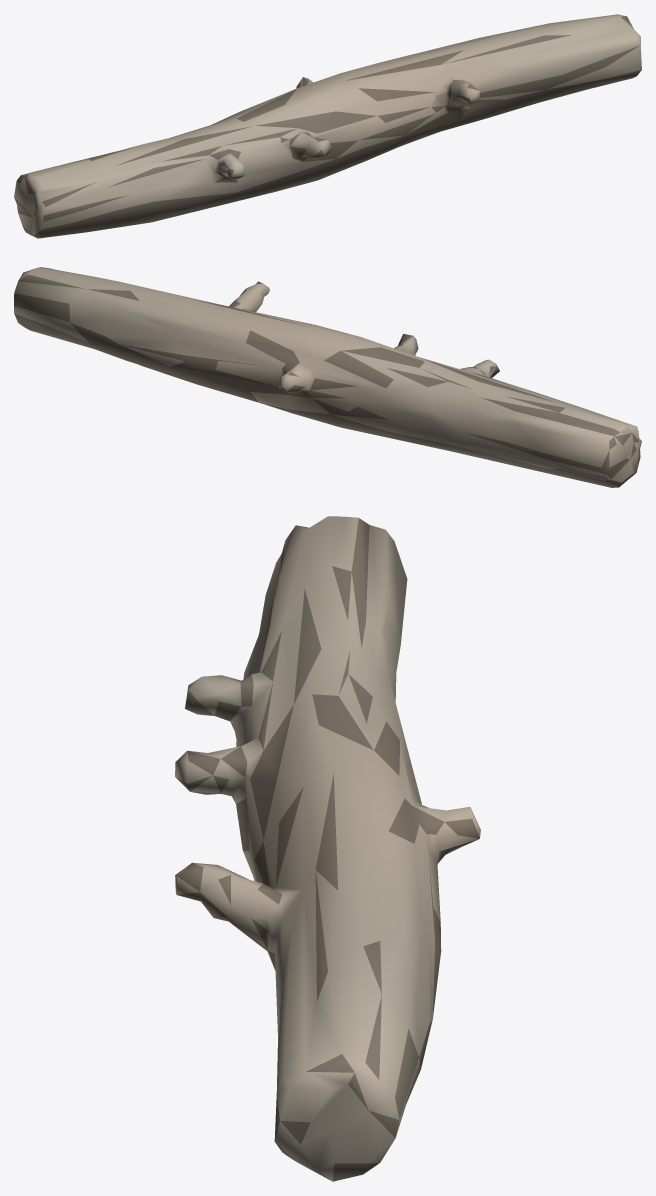
File: shore_driftwood_lod2.glb
3 renders of one model, top to bottom at view 1: azimuth 30°, elevation 25°; view 2: azimuth 150°, elevation 25°; view 3: azimuth 270°, elevation 25°, orthographic. The views are drawn at different scales.
Parts seen in each view (by area): view 1: shore_driftwood.001; view 2: shore_driftwood.001; view 3: shore_driftwood.001.
Part boxes in pixels (bbox=[...]): shore_driftwood.001: bbox=[14, 14, 641, 238]; shore_driftwood.001: bbox=[14, 267, 641, 487]; shore_driftwood.001: bbox=[175, 516, 480, 1181].
Bounding box in the file's own units: 22.2 × 3.04 × 4.88.
